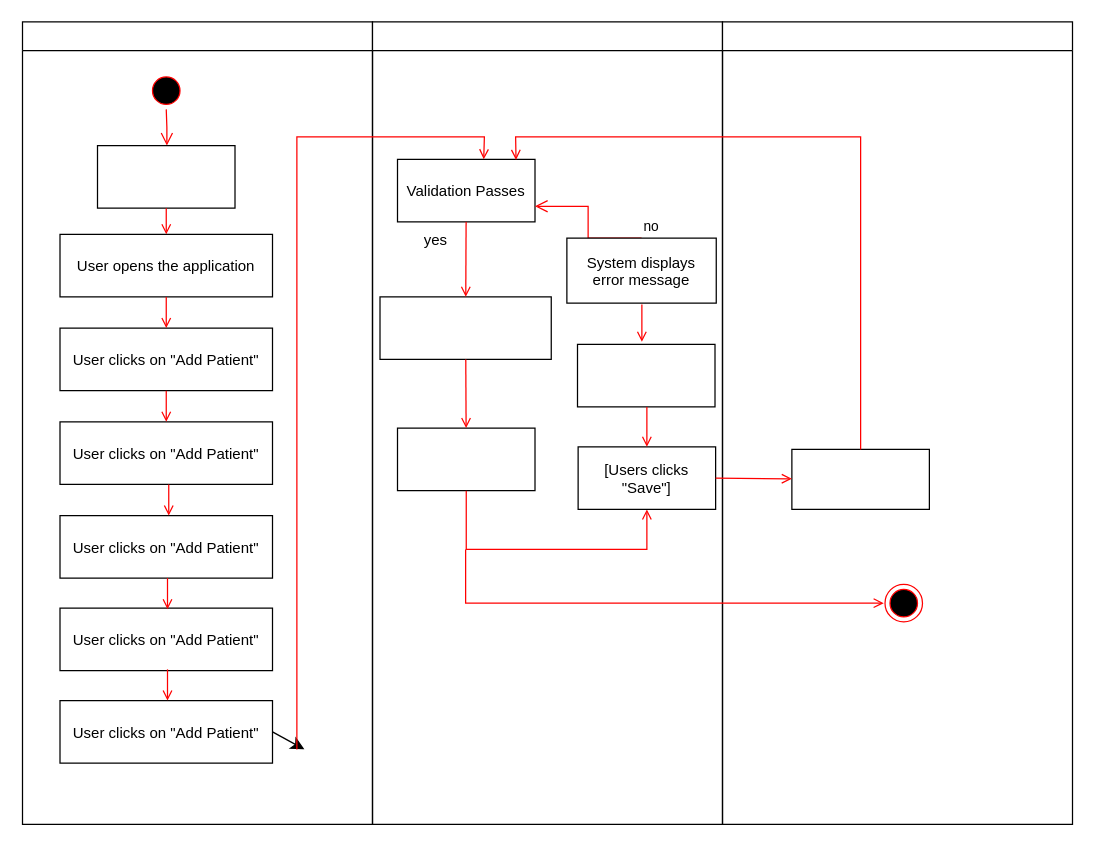
Image size: 1094x846. Some labels were removed from this diagram. Each missing label, with the centre of its shape:
[User Corrects Data]: point 645,375
Start: point 165,176
System displays success message: point 465,459
System saves data to database: point 465,327
System Validates data: point 860,478
